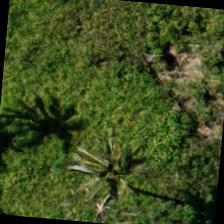Kelapa_Sawit: (71, 120, 169, 218)
